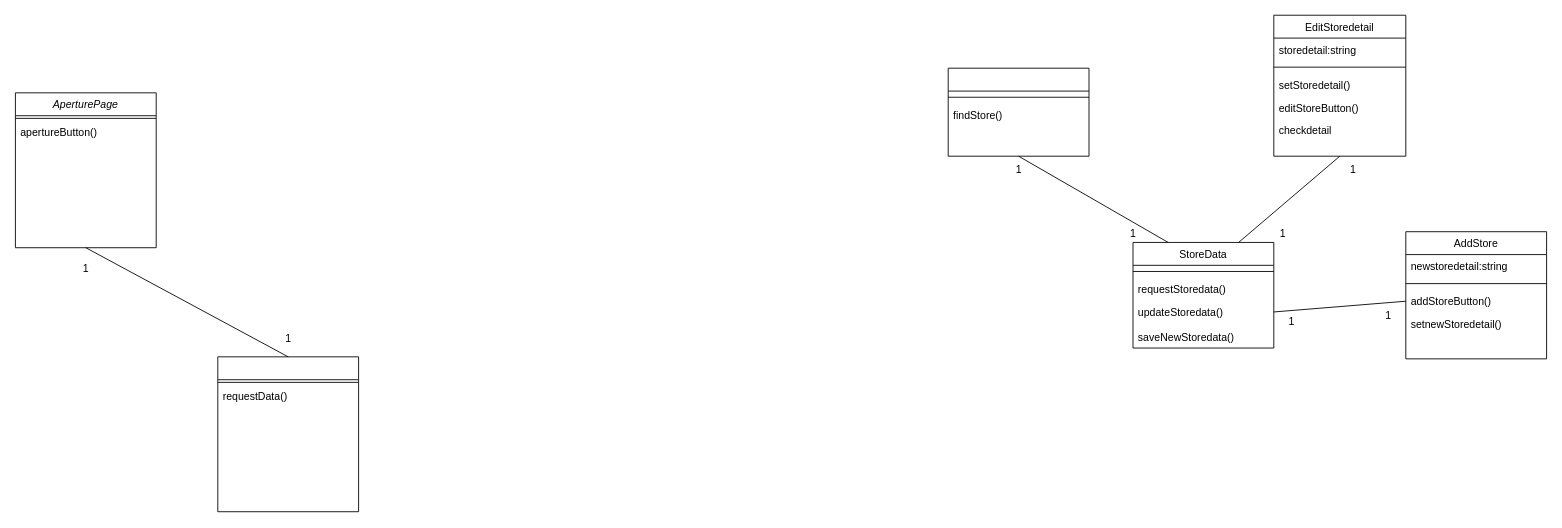
This 1562x528 diagram has some shape labels left out. The box of each missing label's shape, as (x1, y1, x2, y2) in pixels:
ApertureData: (217, 356, 359, 512)
StoreMap: (947, 67, 1089, 156)
